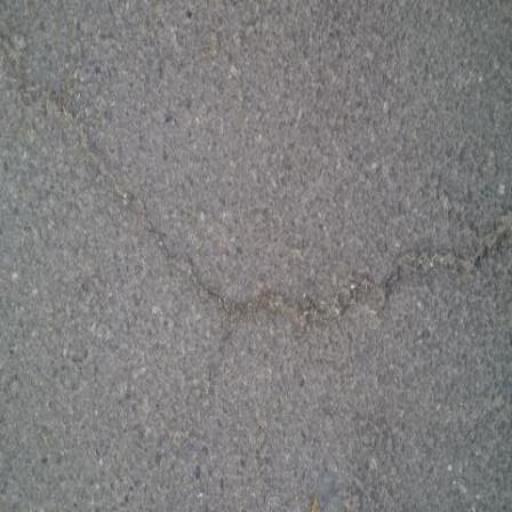spalling: (2, 21, 511, 347)
